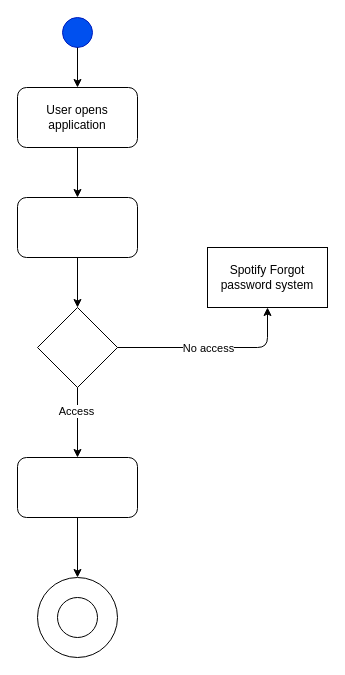
This 345x675 diagram has some shape labels left out. The shapes that lost their labels are listed below. From the top down, each one's centre as x and y in pixels, then its label:
[77,227]: User enters credentials
[77,487]: Main Menu
